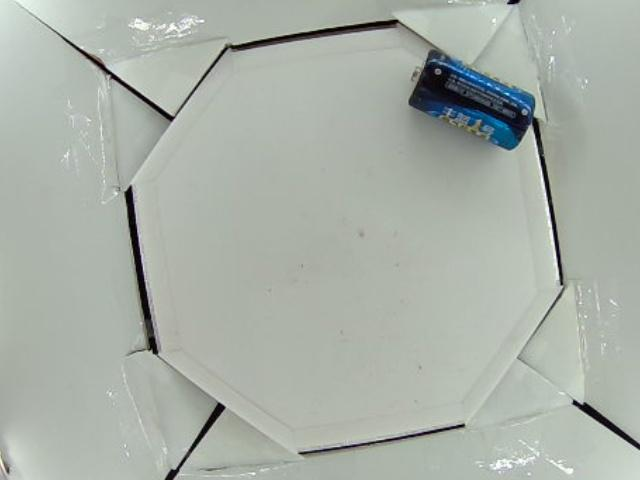Battery: (410, 49, 537, 153)
